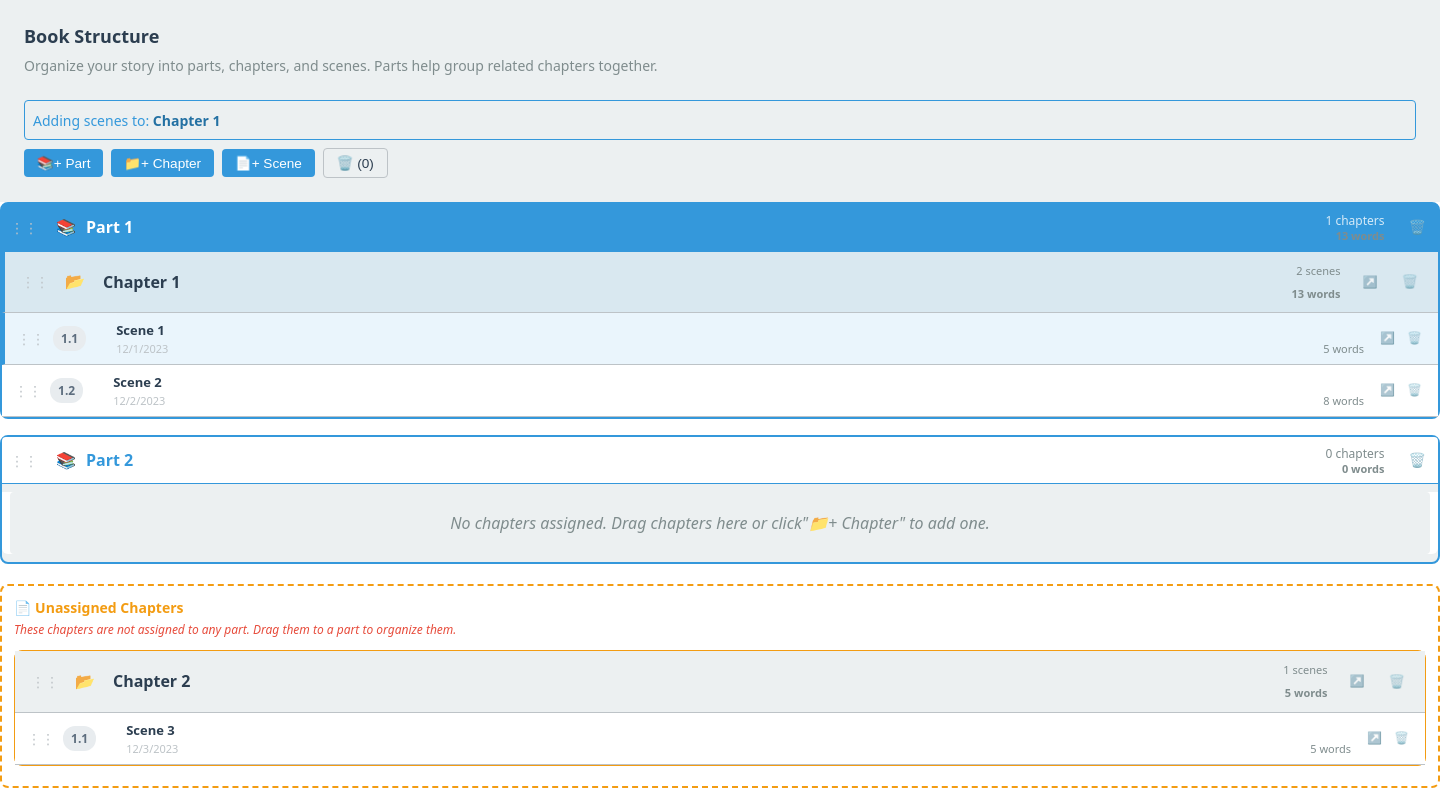
SceneList Component › shows move scene menu when move button is clicked
Click the button titled "Move to another chapter" in the row of "12/1/2023".
click(1388, 338)  # box 1376,329 -> 1399,347
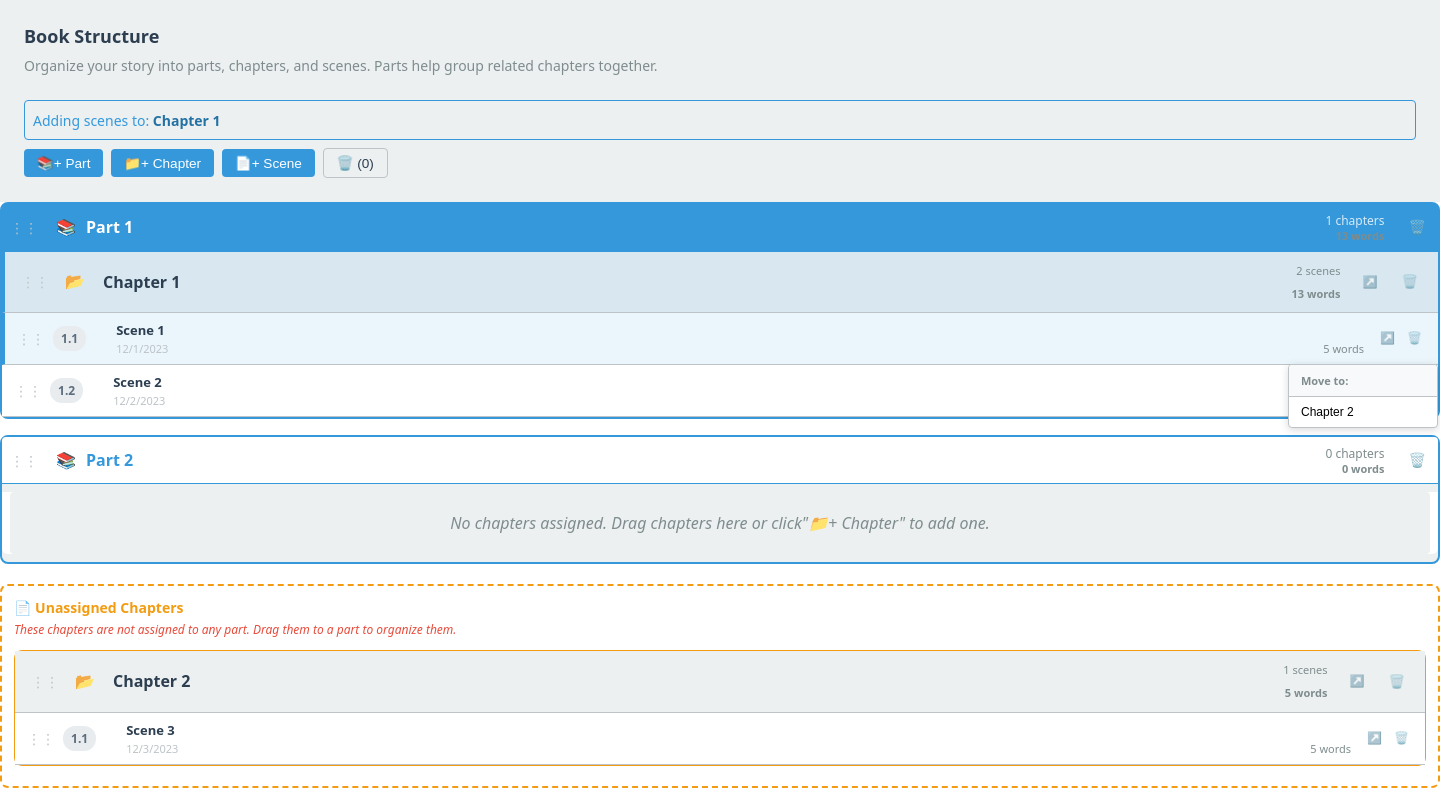
Expected: the text "Move to:" is shown, 1289,365 -> 1437,397
Expected: the button "Chapter 2" is shown, 1289,397 -> 1437,427
